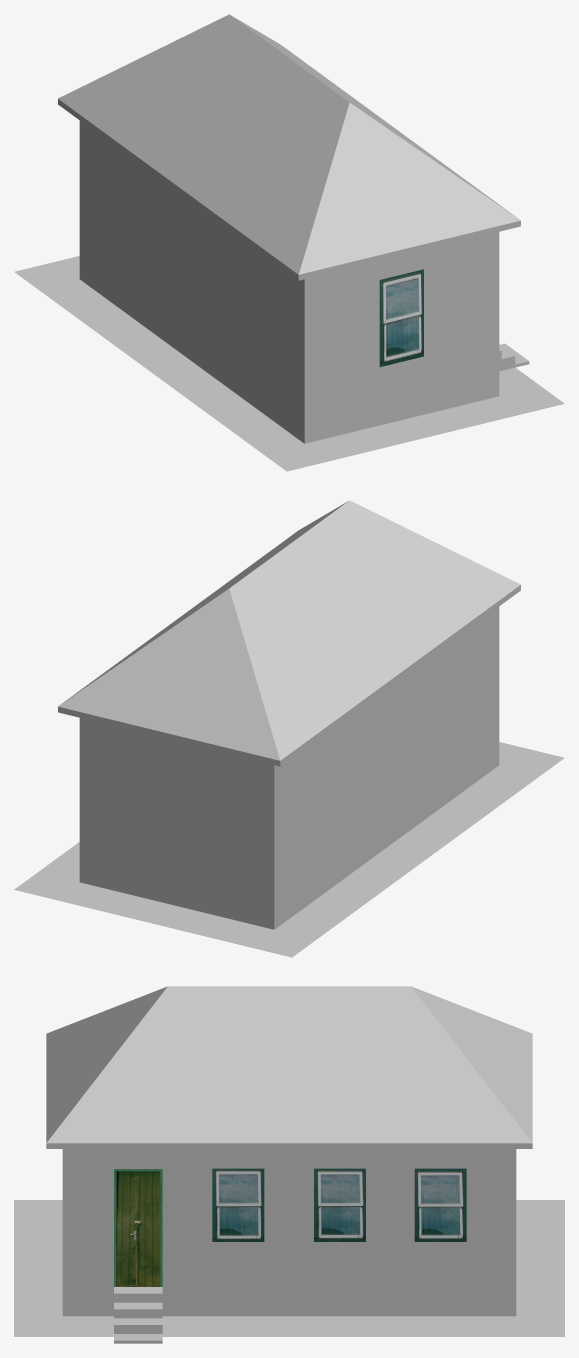
The model's file is armazen.fbx.
3 views of the same model, one above another, from view 1: azimuth 30°, elevation 25°; view 2: azimuth 150°, elevation 25°; view 3: azimuth 270°, elevation 25° (orthographic).
Parts seen in each view (by area): view 1: telhado_externo, fachada-leste.001, fachada-norte.001, Cubo.001, calcada, chao.002, janela4.001, Cubo.003; view 2: telhado_externo, fachada-leste.001, fachada-sul.001, Cubo.002, calcada, chao.002, Cubo.003; view 3: Cubo.003, fachada_oeste.001, calcada, chao.002, Cubo.001, Cubo.002, porta.001, janela1.001, janela3.001, janela2.001, escada-oeste, porta.
Part boxes in pixels (left/top/right/bottom): telhado_externo: left=58, top=14, right=349, bottom=280; fachada-leste.001: left=79, top=121, right=304, bottom=414; fachada-norte.001: left=304, top=232, right=499, bottom=414; Cubo.001: left=298, top=103, right=520, bottom=280; calcada: left=14, top=256, right=564, bottom=471; chao.002: left=79, top=250, right=499, bottom=443; janela4.001: left=379, top=269, right=423, bottom=366; Cubo.003: left=231, top=15, right=516, bottom=217; telhado_externo: left=229, top=500, right=520, bottom=766; fachada-leste.001: left=274, top=607, right=499, bottom=900; fachada-sul.001: left=79, top=718, right=274, bottom=900; Cubo.002: left=58, top=589, right=280, bottom=766; calcada: left=14, top=742, right=564, bottom=957; chao.002: left=79, top=736, right=499, bottom=929; Cubo.003: left=62, top=501, right=347, bottom=703; Cubo.003: left=46, top=986, right=532, bottom=1148; fachada_oeste.001: left=62, top=1149, right=516, bottom=1286; calcada: left=14, top=1200, right=564, bottom=1336; chao.002: left=62, top=1287, right=516, bottom=1316; Cubo.001: left=46, top=986, right=167, bottom=1142; Cubo.002: left=411, top=986, right=532, bottom=1142; porta.001: left=116, top=1171, right=160, bottom=1286; janela1.001: left=212, top=1168, right=264, bottom=1241; janela3.001: left=414, top=1168, right=466, bottom=1241; janela2.001: left=314, top=1168, right=365, bottom=1241; escada-oeste: left=114, top=1287, right=162, bottom=1343; porta: left=114, top=1169, right=162, bottom=1286.
Size of the model in its own units: 525 by 480 by 850.
